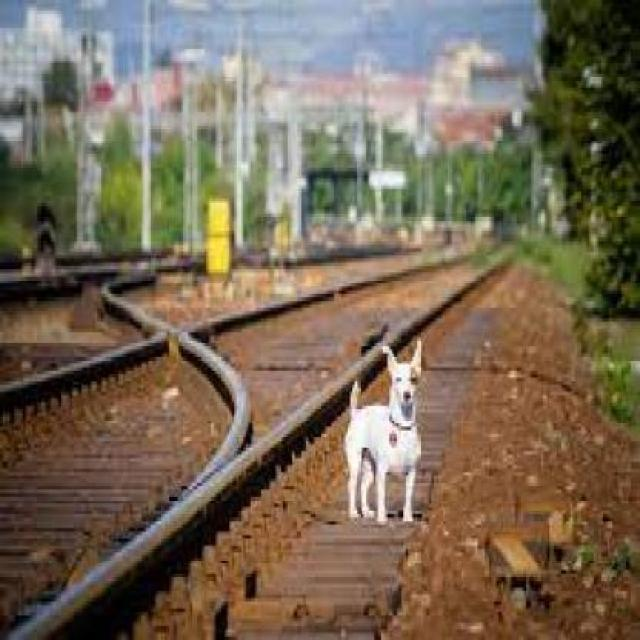danger: (342, 338, 426, 528)
rail: (1, 236, 536, 638)
